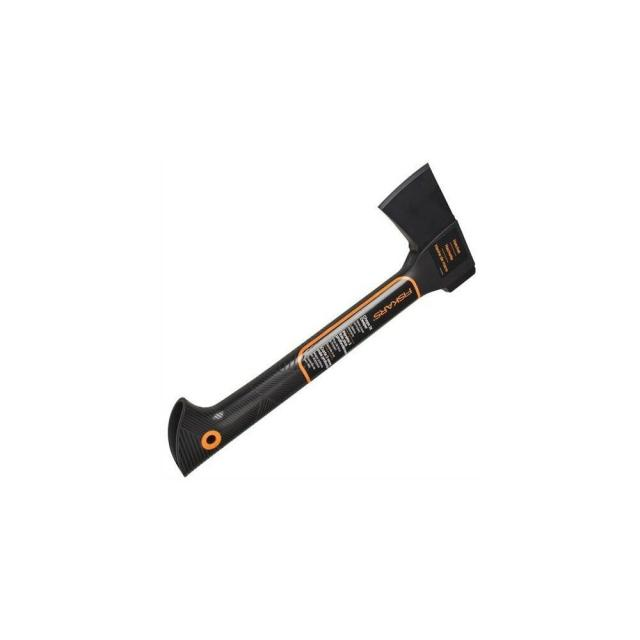Kapak: (144, 133, 479, 461)
